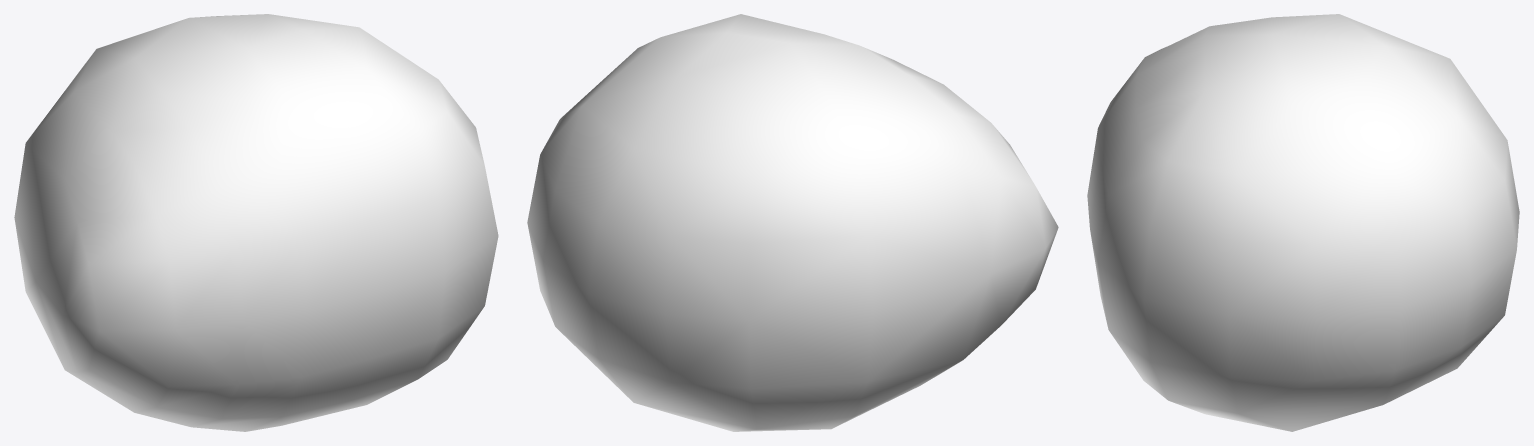
Rendered from Head1.fbx.
The picture shows the model from 3 angles, left to right: view 1: azimuth 30°, elevation 25°; view 2: azimuth 150°, elevation 25°; view 3: azimuth 270°, elevation 25°; orthographic projection. The views are drawn at different scales.
Visible parts, largest first — view 1: Mesh_0004.rip_Mesh_0004.rip_mesh0000; view 2: Mesh_0004.rip_Mesh_0004.rip_mesh0000; view 3: Mesh_0004.rip_Mesh_0004.rip_mesh0000.
Boxes of the visible parts, box(x1,y1,x2,y2) form: Mesh_0004.rip_Mesh_0004.rip_mesh0000: box(14, 14, 498, 431); Mesh_0004.rip_Mesh_0004.rip_mesh0000: box(527, 14, 1058, 431); Mesh_0004.rip_Mesh_0004.rip_mesh0000: box(1087, 14, 1519, 431).
Bounding box in the file's own units: 6.72 × 5.26 × 5.81.
Materials: 1 (1 with a texture image).
